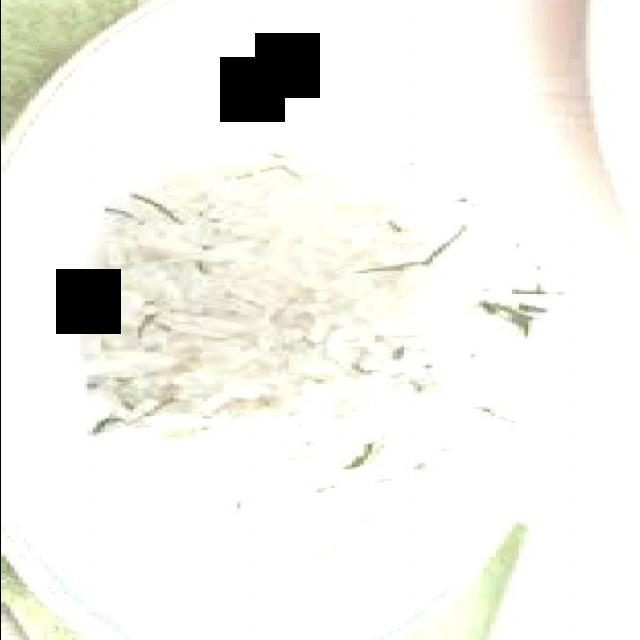rice: (83, 146, 555, 510)
